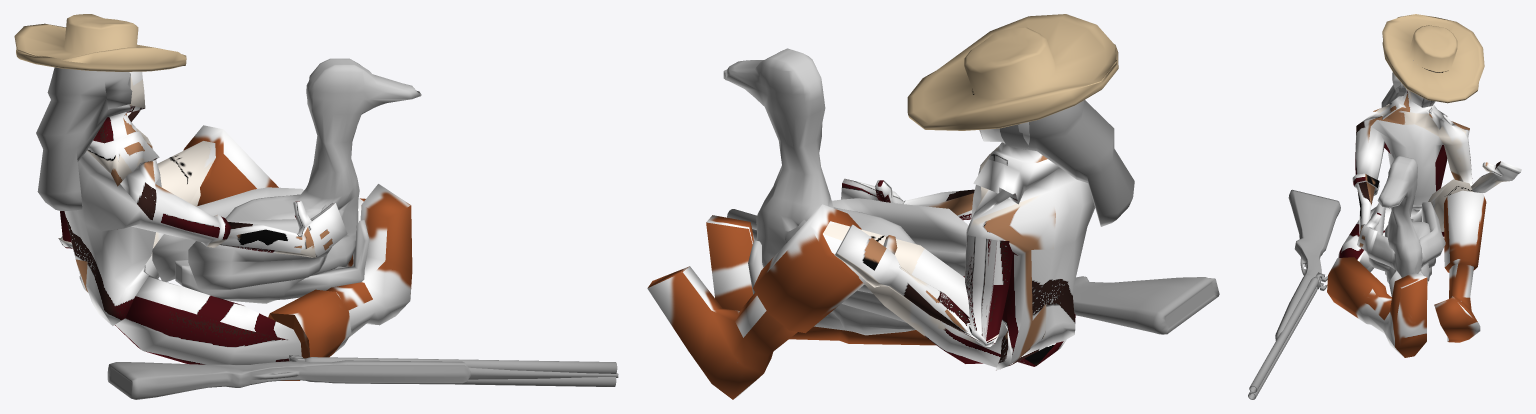
File: Mariana_the_brigandBowing_8.obj
The picture shows the model from 3 angles, left to right: view 1: azimuth 30°, elevation 25°; view 2: azimuth 150°, elevation 25°; view 3: azimuth 270°, elevation 25°; orthographic projection. The views are drawn at different scales.
Visible parts, largest first — view 1: Default_Body_Cube, Cube.005, SHOTGUN_Cube.007, Hair_Cube.004, Hat_Cylinder; view 2: Default_Body_Cube, Cube.005, Hat_Cylinder, Hair_Cube.004, SHOTGUN_Cube.007; view 3: Default_Body_Cube, Hat_Cylinder, Cube.005, SHOTGUN_Cube.007, Hair_Cube.004.
Part boxes in pixels (<box>): Default_Body_Cube: <box>58,71,412,380</box>; Cube.005: <box>152,58,421,303</box>; SHOTGUN_Cube.007: <box>107,355,618,399</box>; Hair_Cube.004: <box>36,67,132,210</box>; Hat_Cylinder: <box>14,14,186,71</box>; Default_Body_Cube: <box>647,122,1095,399</box>; Cube.005: <box>723,48,968,335</box>; Hat_Cylinder: <box>907,14,1118,130</box>; Hair_Cube.004: <box>1000,100,1134,226</box>; SHOTGUN_Cube.007: <box>727,209,1219,334</box>; Default_Body_Cube: <box>1327,71,1521,357</box>; Hat_Cylinder: <box>1382,14,1484,103</box>; Cube.005: <box>1365,156,1445,296</box>; SHOTGUN_Cube.007: <box>1248,189,1340,399</box>; Hair_Cube.004: <box>1381,60,1413,107</box>.
Bounding box in the file's own units: 6.86 × 5.15 × 5.24.
